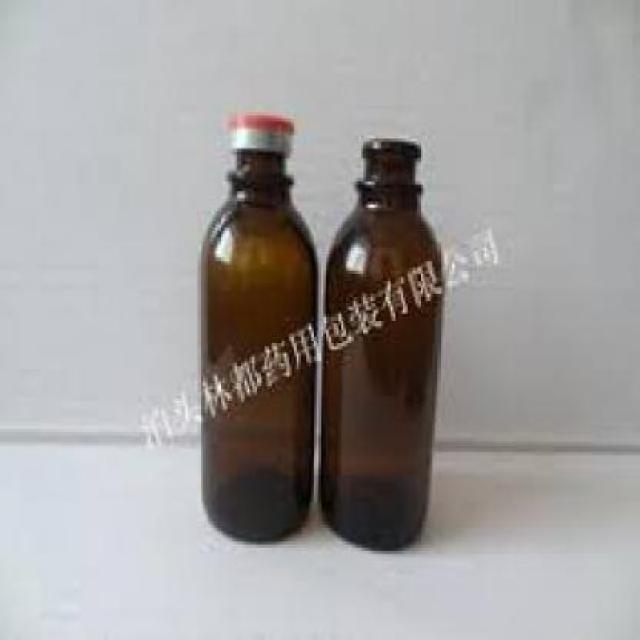kaca: (318, 135, 440, 548), (198, 146, 312, 539)
